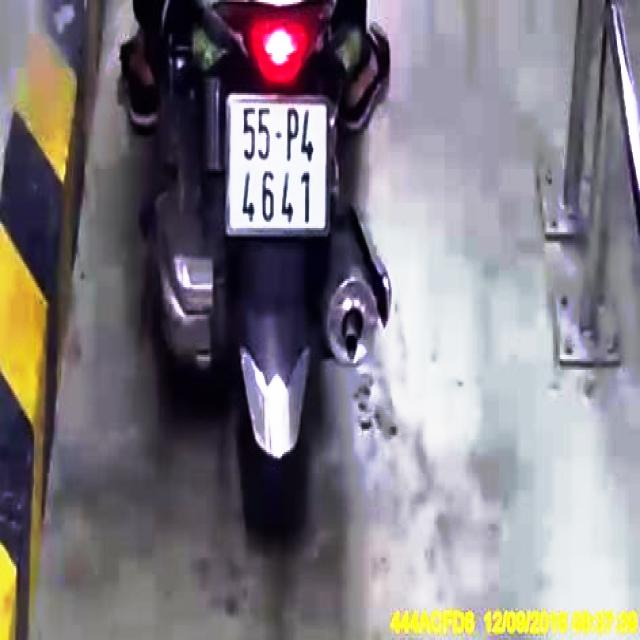license_plate: (227, 99, 332, 237)
